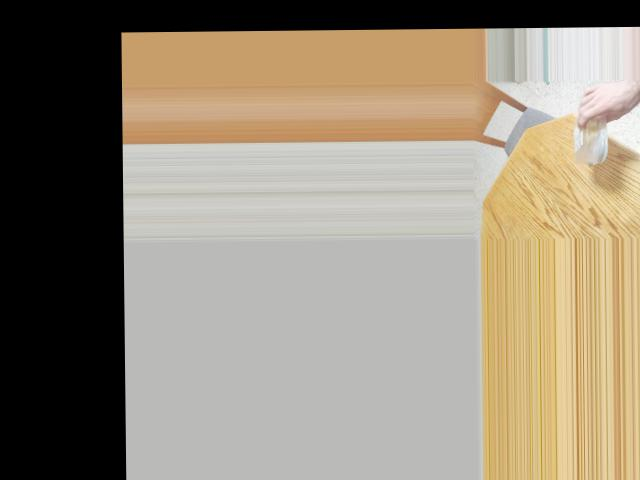cheese: (563, 95, 619, 160)
